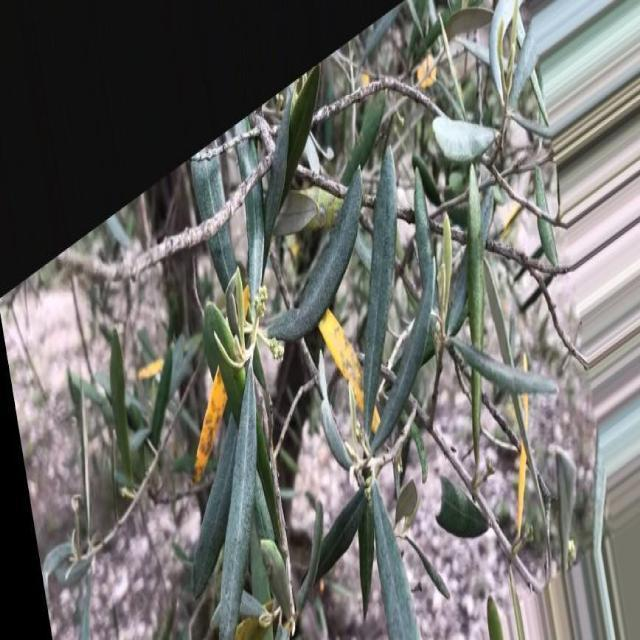OlivePeacockSpot: (319, 309, 362, 413), (194, 377, 226, 483), (371, 404, 380, 433)
